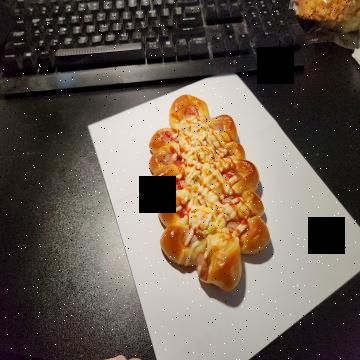pizza_bread: (149, 93, 271, 293)
